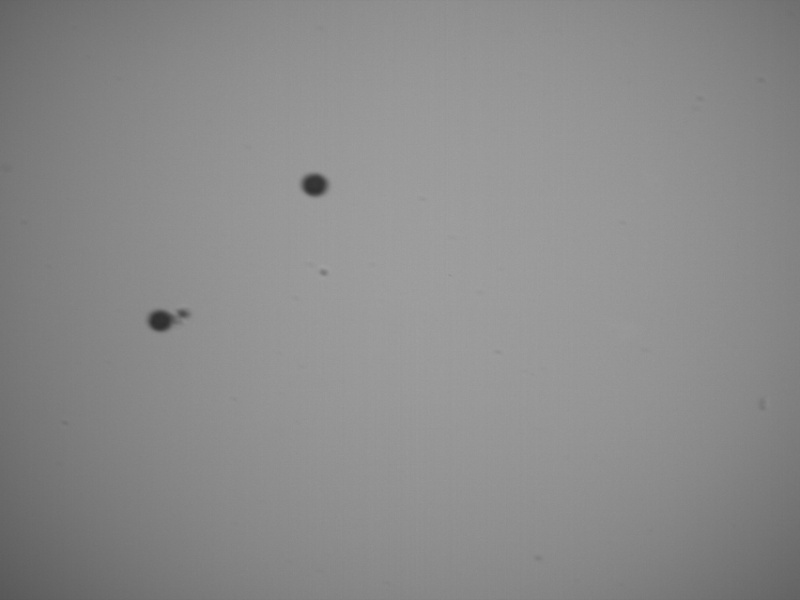bead: (302, 174, 329, 197), (149, 310, 175, 333), (175, 307, 191, 320)
